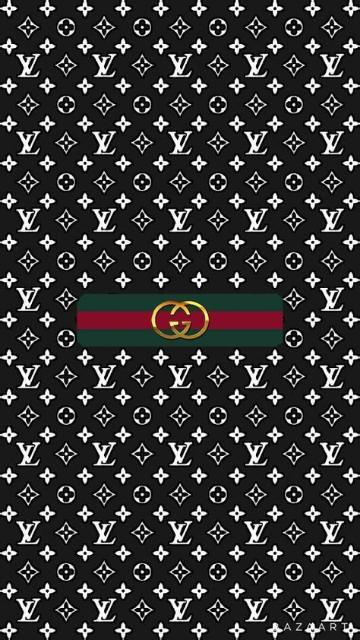Gucci: (75, 294, 282, 348)
